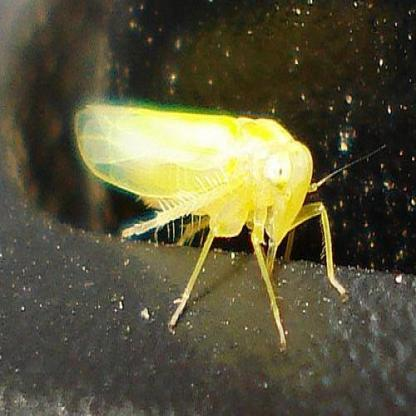green-leafhopper: (74, 103, 350, 353)
